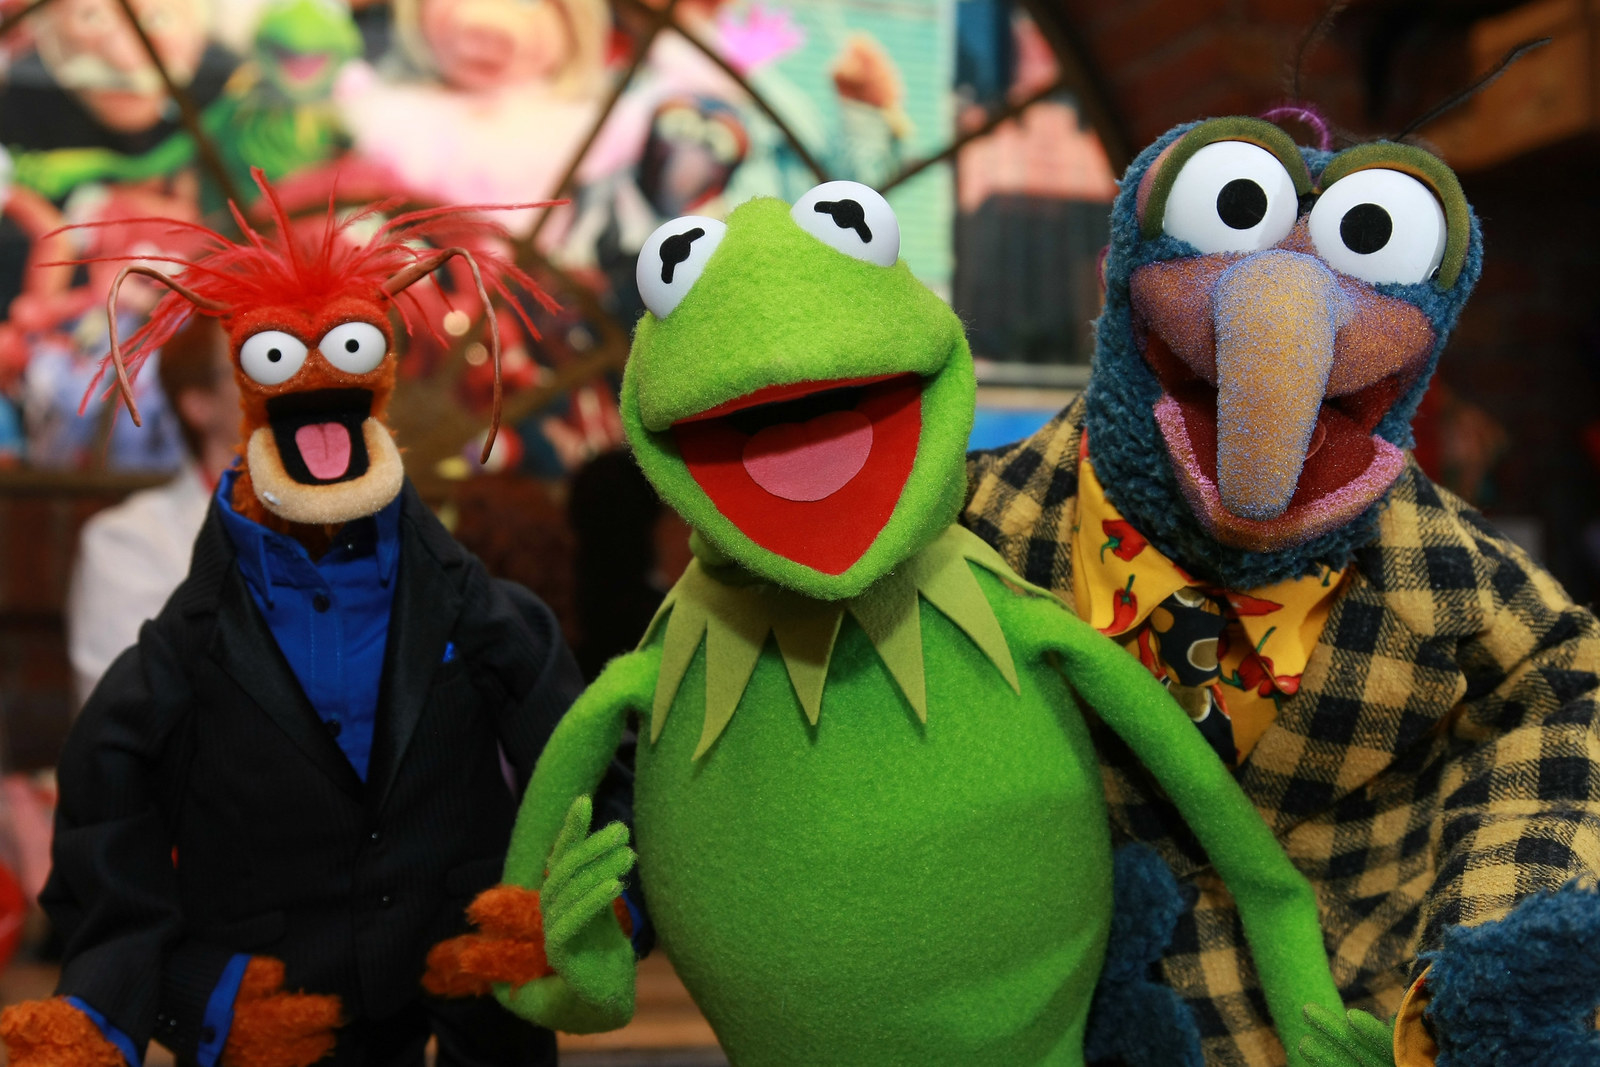kermit: (615, 180, 981, 597)
